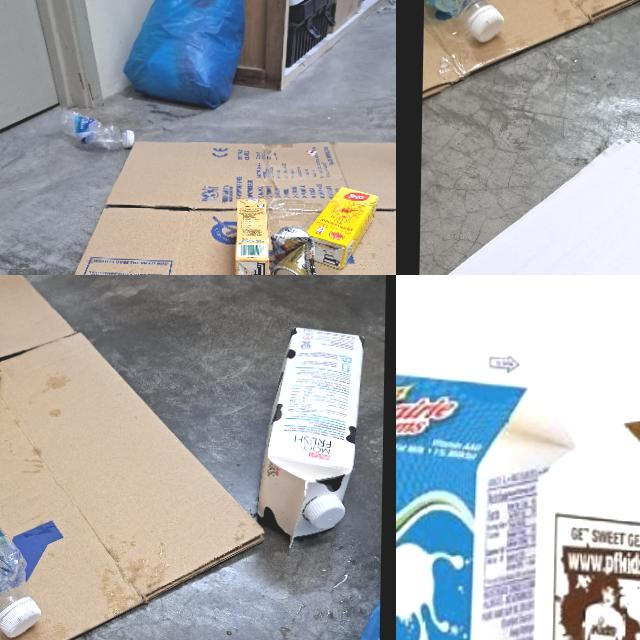caixinha: (396, 308, 557, 640), (526, 338, 640, 640), (258, 324, 364, 548), (305, 186, 378, 270), (234, 198, 269, 275)
garrafa plástica: (0, 508, 41, 640), (59, 106, 128, 148), (424, 0, 492, 21)
lata: (270, 226, 320, 275)
papel: (414, 135, 640, 275)
papelão: (0, 275, 269, 640), (8, 137, 396, 275), (422, 0, 640, 104)
sacola plástica: (122, 0, 247, 108)
tampa plástica: (0, 593, 39, 639), (468, 6, 504, 44), (309, 496, 344, 530), (124, 130, 134, 147)
